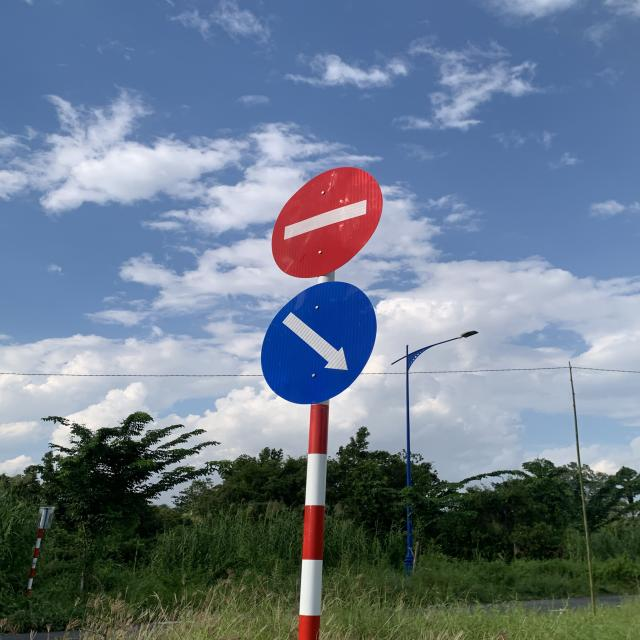Cam_Di_Nguoc_Chieu: (273, 164, 387, 280)
Chi_Huong_Di_Phai: (262, 283, 378, 404)
